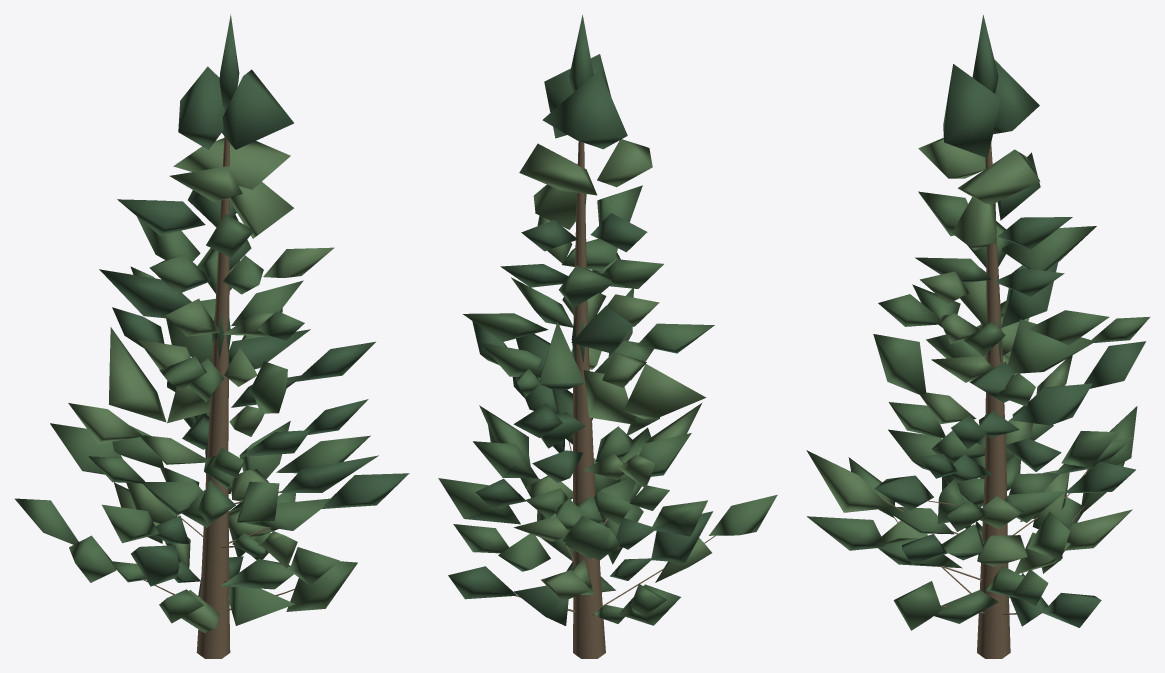
File: spruce-a.glb
3 views of the same model, side by side, from view 1: azimuth 30°, elevation 25°; view 2: azimuth 150°, elevation 25°; view 3: azimuth 270°, elevation 25° (orthographic).
Size of the model in its own units: 5.64 by 12.2 by 5.91.
